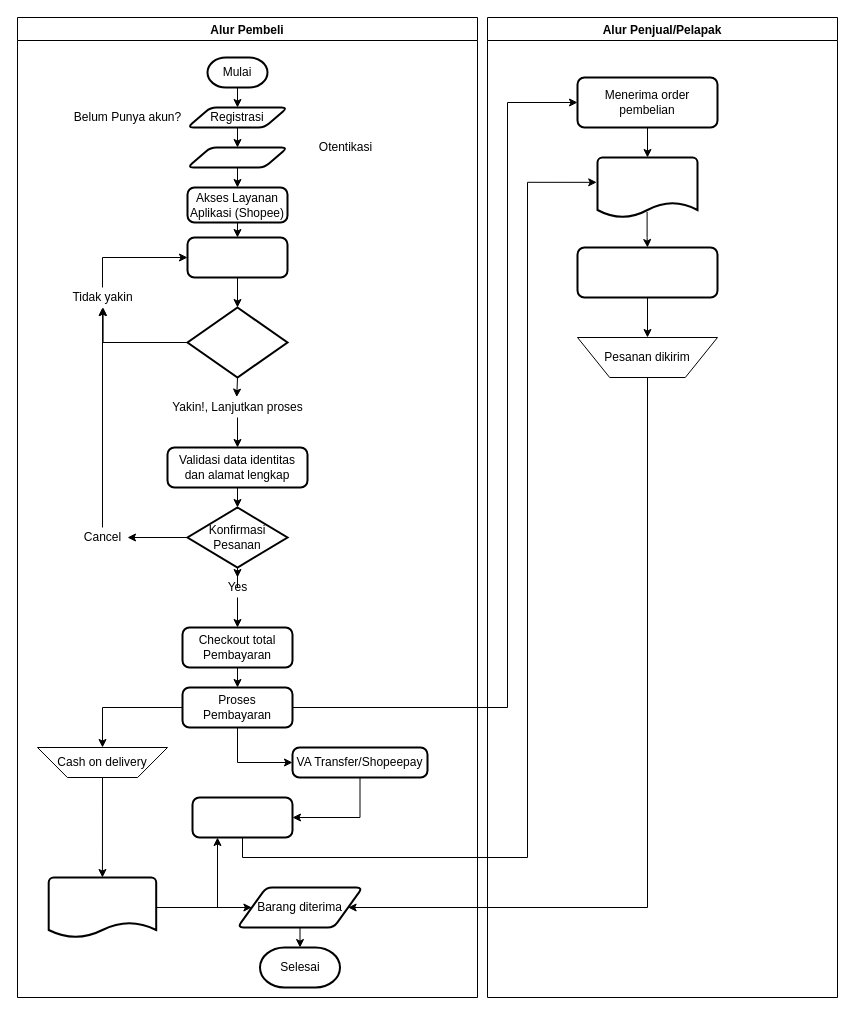
This 855x1015 diagram has some shape labels left out. The centre of each missing label's shape, as x and y in pixels:
"Data Invoice/faktur pembelian" belongs at pixel 647 187.
"Login" belongs at pixel 237 157.
"Memproses Pesanan" belongs at pixel 647 272.
"Pemilihan Produk yang diinginkan" belongs at pixel 237 257.
"Selesai Pembayaran" belongs at pixel 242 817.
"Tanda terima pembayaran lewat kurir shopee" belongs at pixel 102 907.
"Yakin beli?" belongs at pixel 237 342.
